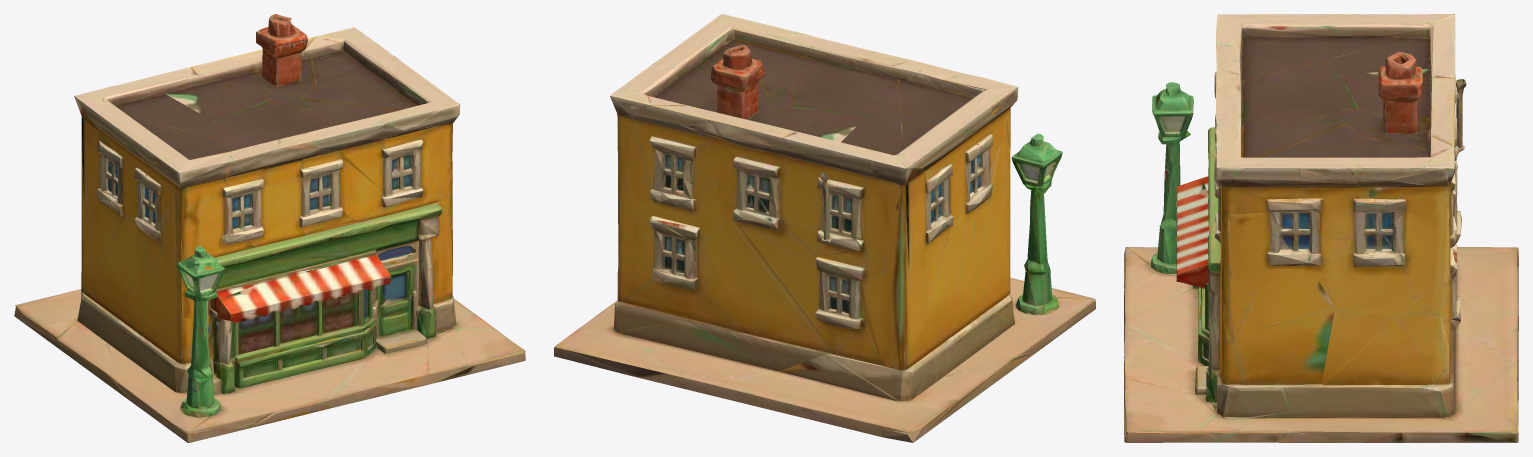
File: town_small_flat_1x1_1.glb
The picture shows the model from 3 angles, left to right: view 1: azimuth 30°, elevation 25°; view 2: azimuth 150°, elevation 25°; view 3: azimuth 270°, elevation 25°; orthographic projection. The views are drawn at different scales.
Parts seen in each view (by area): view 1: normalize; view 2: normalize; view 3: normalize.
Boxes of the visible parts, x1,y1,x2,y2 form: normalize: (14, 14, 525, 442); normalize: (554, 14, 1095, 442); normalize: (1124, 14, 1518, 442).
Size of the model in its own units: 1 by 0.7994 by 0.897.
1 material, 1 textured.
